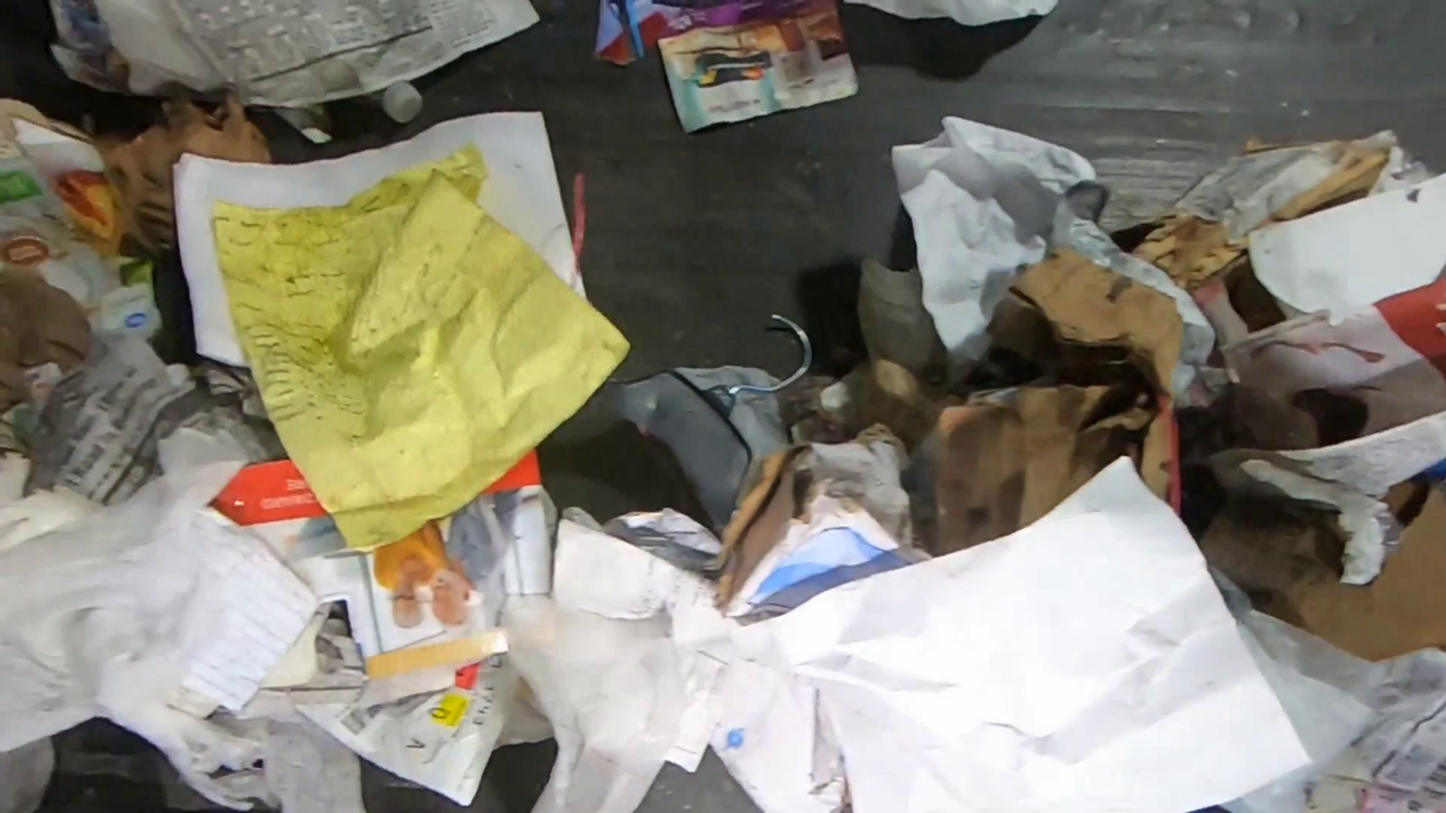cardboard: (559, 353, 955, 628), (930, 243, 1185, 560), (1127, 131, 1391, 298), (92, 89, 275, 260)
plastic: (0, 426, 253, 813), (537, 312, 815, 540), (490, 593, 688, 813), (205, 705, 368, 813), (346, 81, 425, 124)
